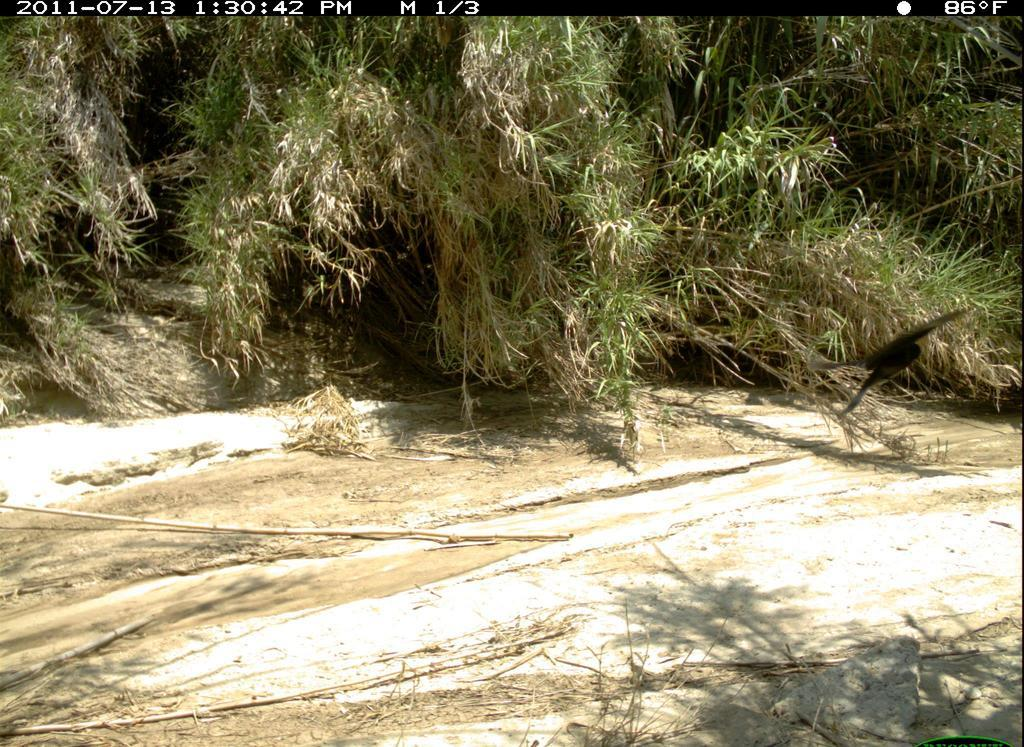bird: (821, 290, 976, 443)
